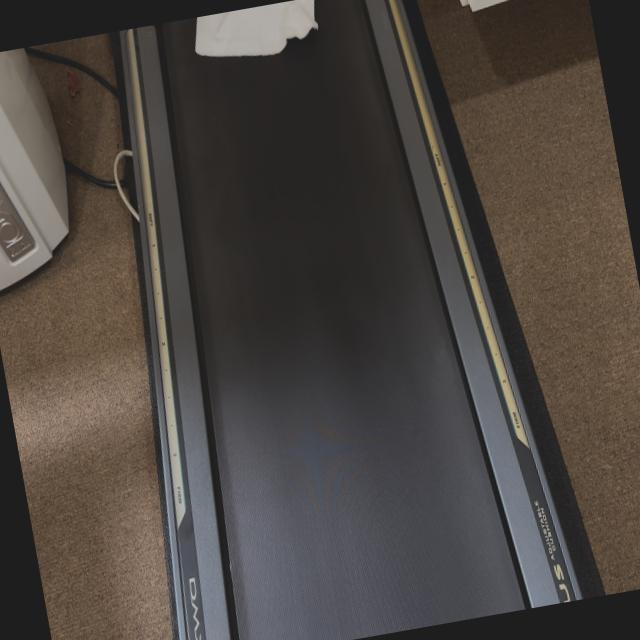Recycle: (186, 0, 326, 68)
